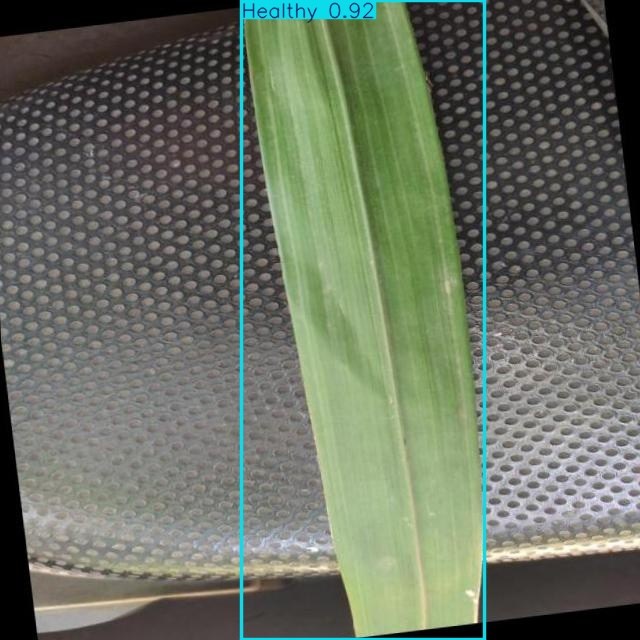Healthy: (241, 1, 485, 639)
